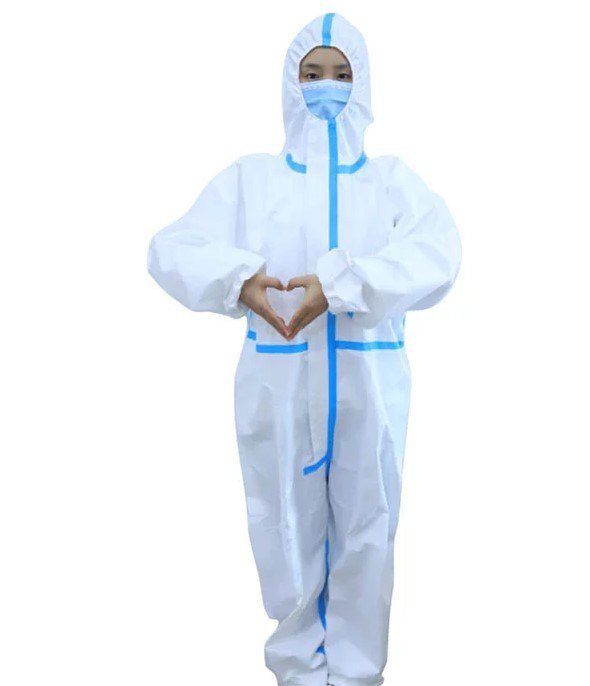Coverall: (145, 12, 458, 683)
with_mask: (301, 77, 353, 118)
